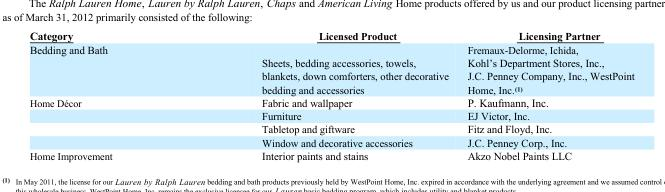table: (28, 28, 633, 161)
table column: (186, 28, 457, 161), (457, 28, 633, 161), (28, 28, 186, 161)
table column header: (28, 28, 633, 42)
table row: (28, 42, 633, 95), (28, 28, 633, 42), (28, 108, 633, 122), (28, 95, 633, 108), (28, 122, 633, 135), (28, 135, 633, 148), (28, 148, 633, 161)
table spanning cell: (28, 95, 186, 148)
